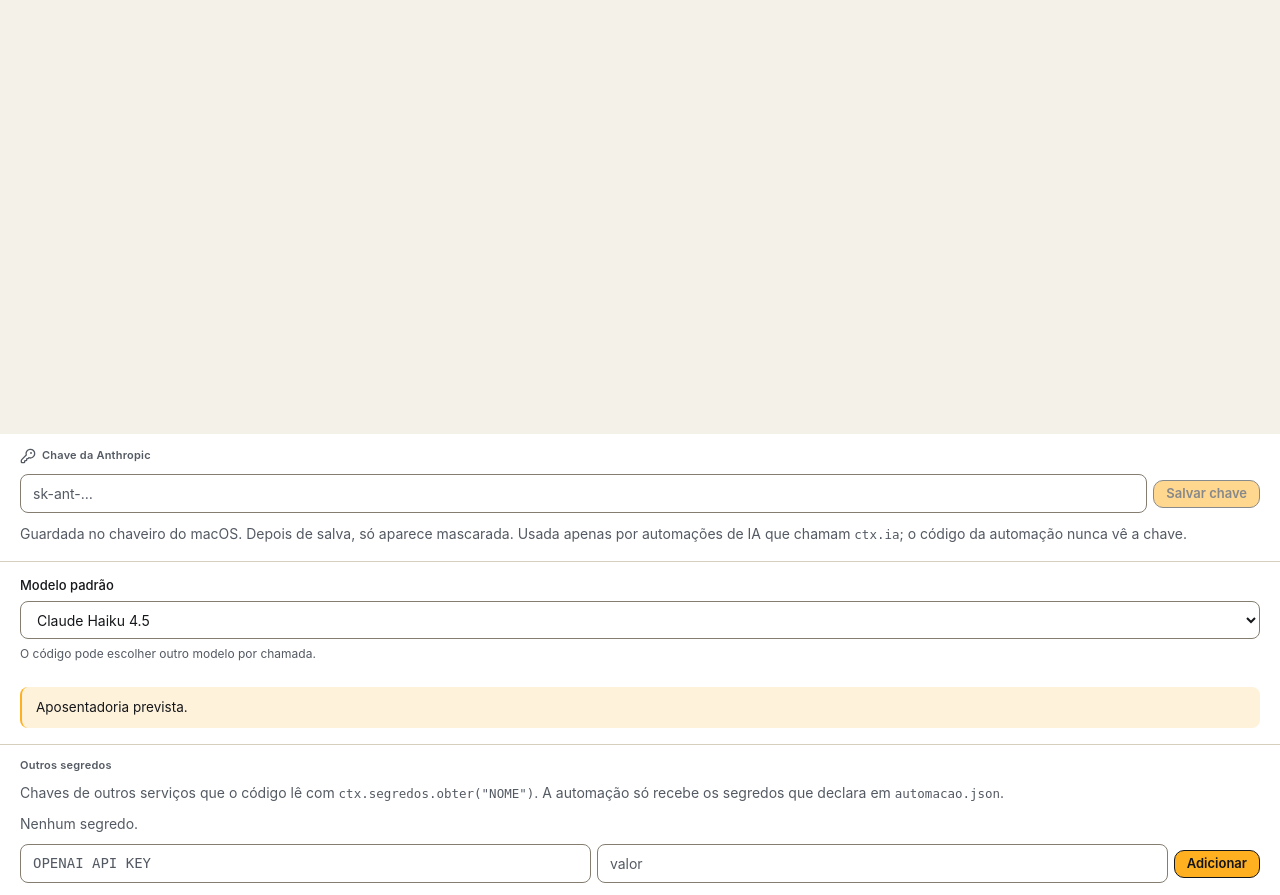
Scenario: Ajustes → IA › guarda a chave pelo processo principal e só mostra a máscara
This screenshot has width=1280, height=895.
(page scrolled)
Type "sk-ant-api03-SEGREDO-MUITO-SECRETO-a1b2" into the password field named "Valor da chave da Anthropic" at x=584, y=494, box [20,474,1147,513]
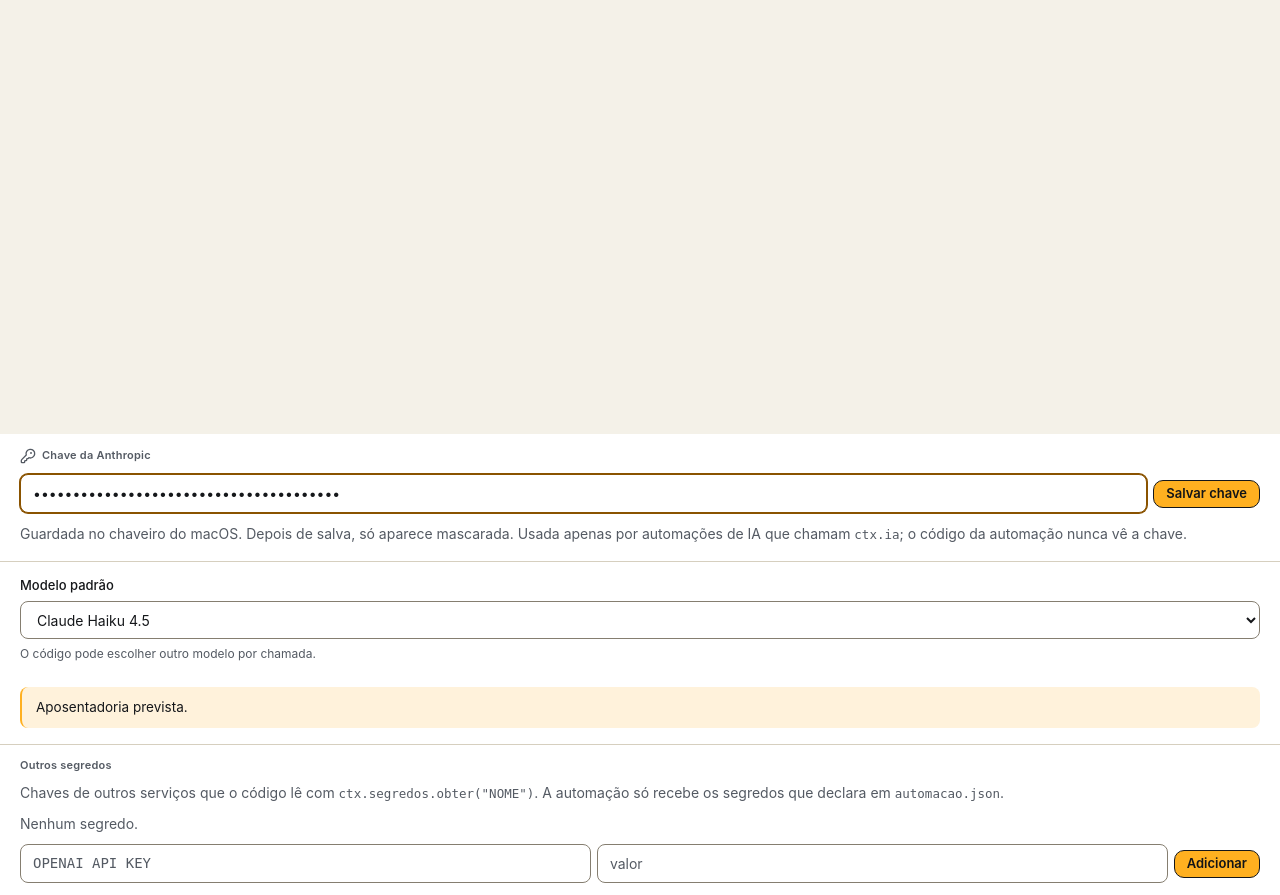
Click the button "Salvar chave" at x=1207, y=494, box [1153,480,1260,508]
(page scrolled)
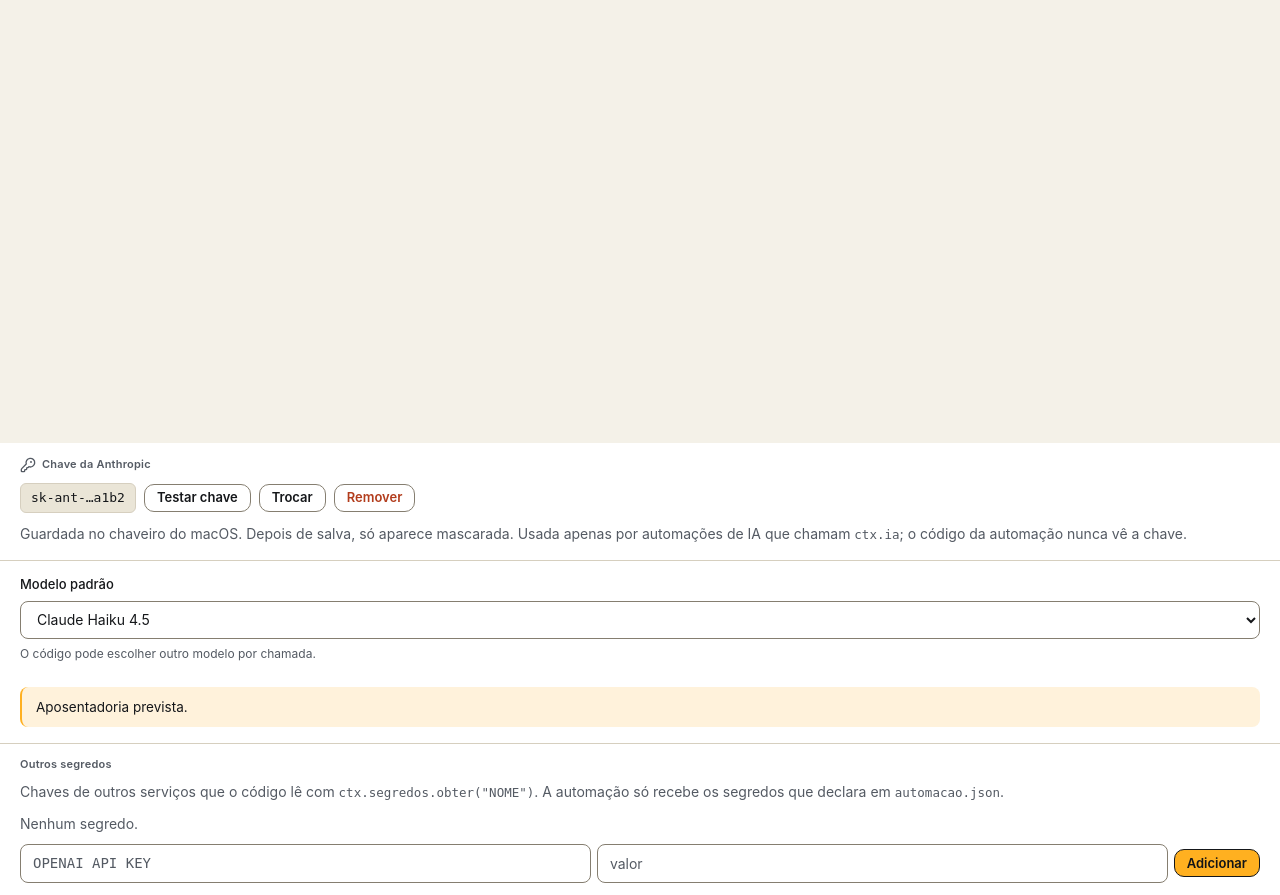
Expected: the text named "Chave guardada" reads "sk-ant-…a1b2", [31,490,125,505]
Click the button "Testar chave" at x=197, y=498, box [144,484,251,512]
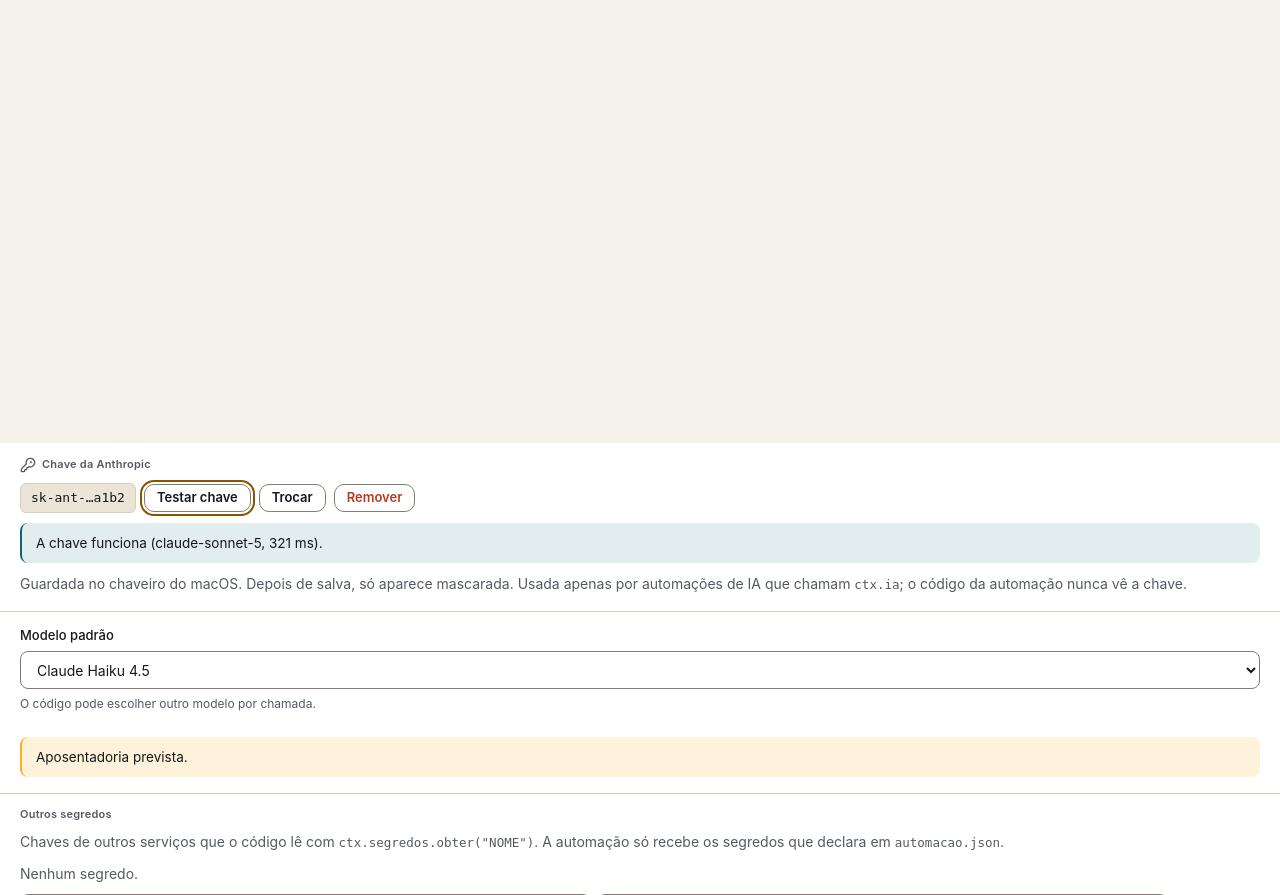
Expected: the text "A chave funciona (claude-sonnet-5, 321 ms)." is shown, [36,534,323,550]
